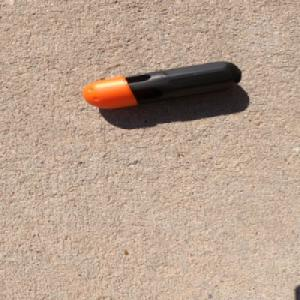PlasticPart: (81, 59, 243, 109)
